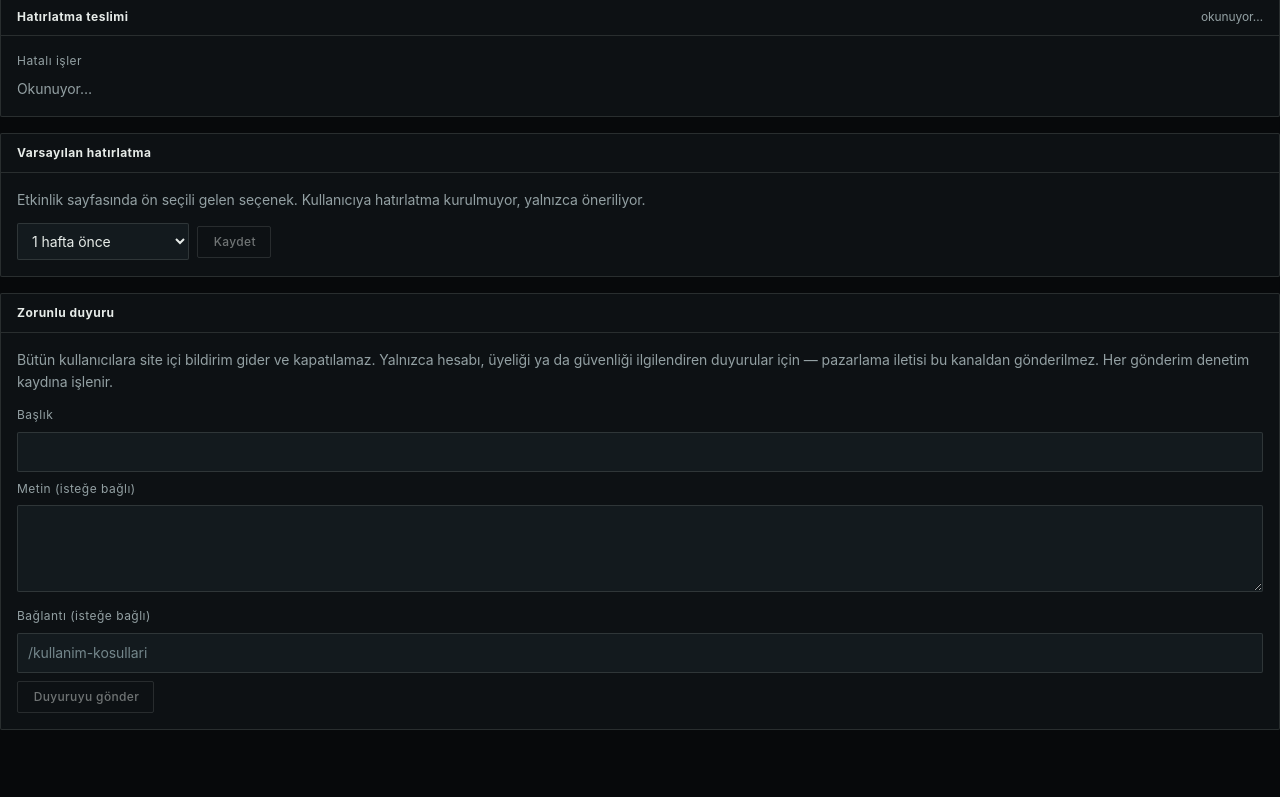
Scenario: zorunlu duyuru › tek tıkla gitmiyor, onay istiyor
The width and height of the screenshot is (1280, 797).
Type "Kullanım koşulları güncellendi" into the field labelled "Başlık".
click(640, 452); type("Kullanım koşulları güncellendi")  # box x1=17 y1=432 x2=1263 y2=472
(page scrolled)
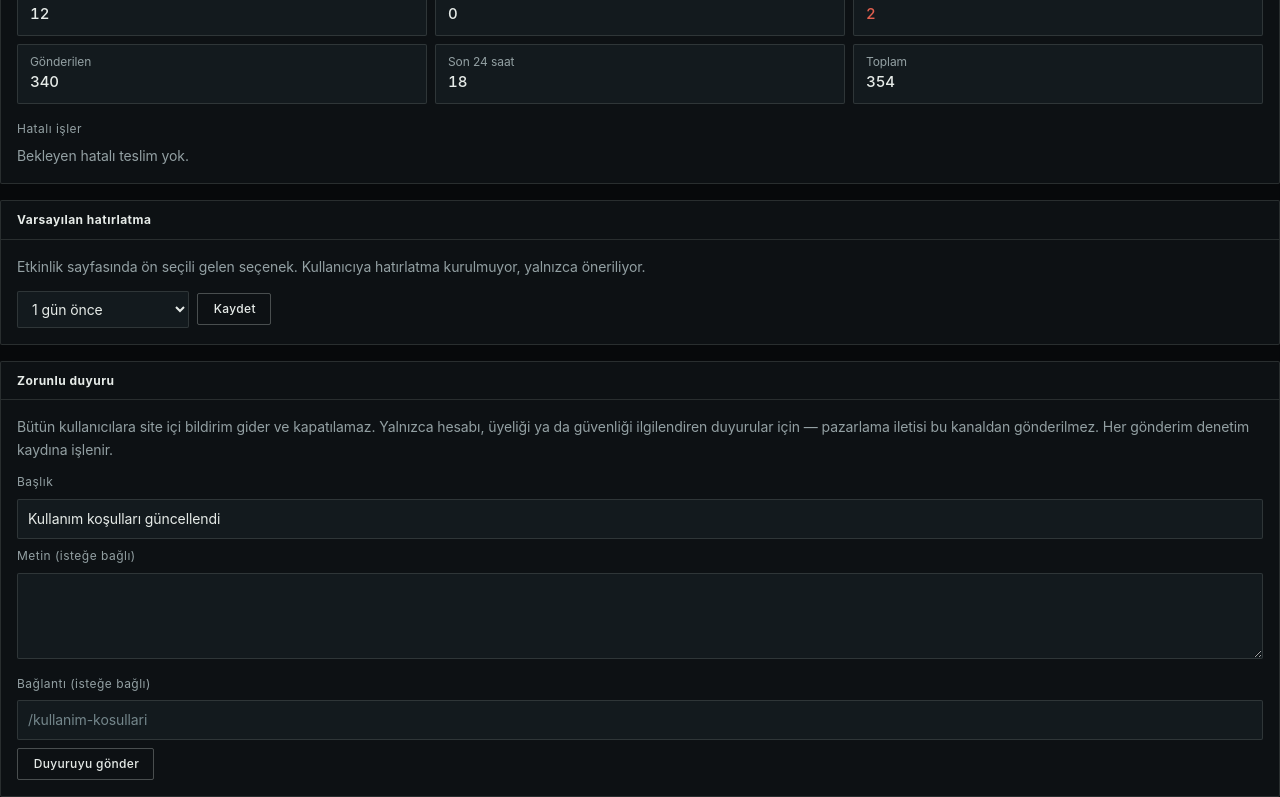
Click the button "Duyuruyu gönder".
click(86, 764)  # box x1=17 y1=748 x2=154 y2=780
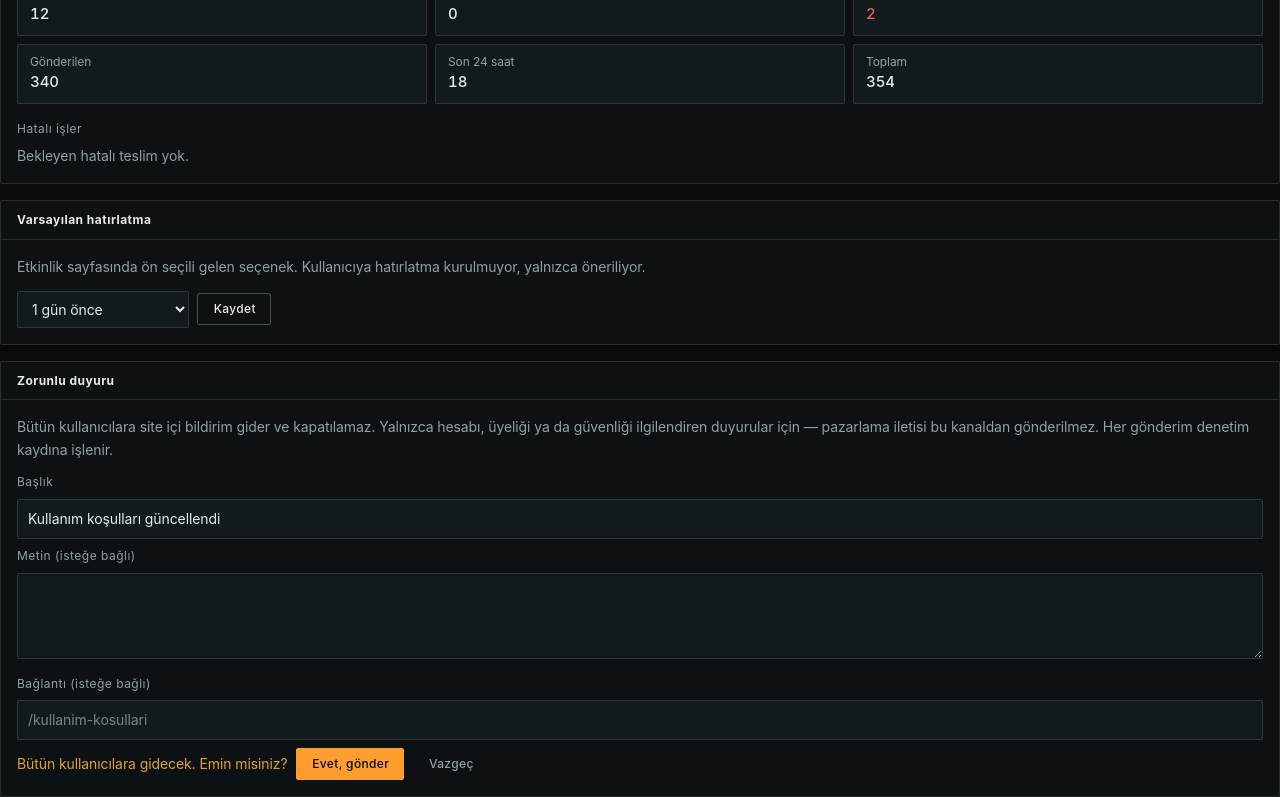
Result: the text "Bütün kullanıcılara gidecek. Emin misiniz?" is shown at x1=17 y1=753 x2=288 y2=776
Click the button "Evet, gönder".
click(350, 764)  # box x1=296 y1=748 x2=404 y2=780
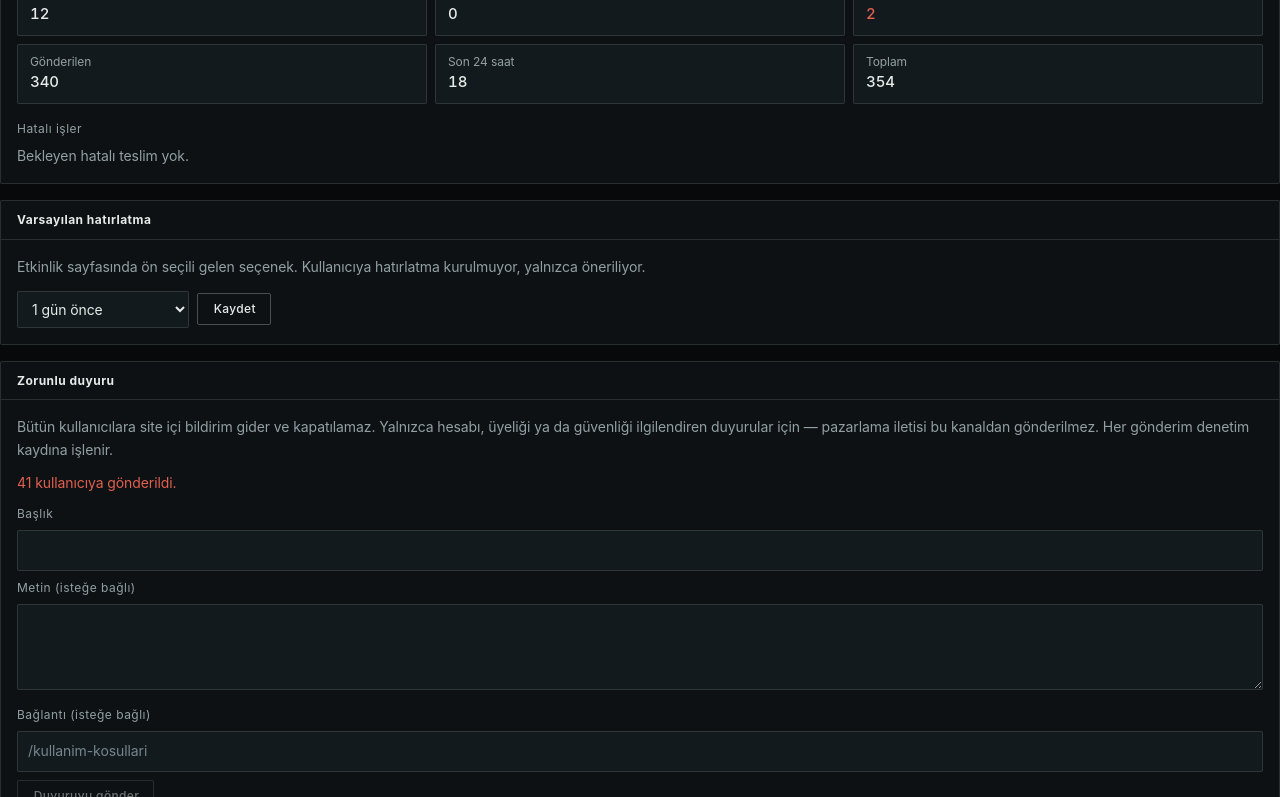
Result: the text "41 kullanıcıya gönderildi." is shown at x1=17 y1=474 x2=176 y2=492
